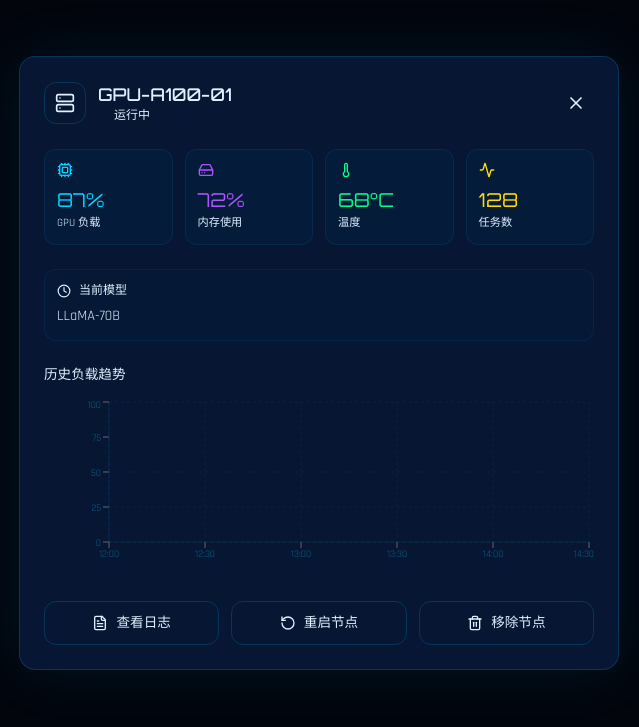
Test: NodeDetailModal › 查看日志交互 › 点击查看日志应展开日志面板
The width and height of the screenshot is (639, 727).
Click the button with test id "view-logs-btn" at (132, 623), box [44,601,219,645]
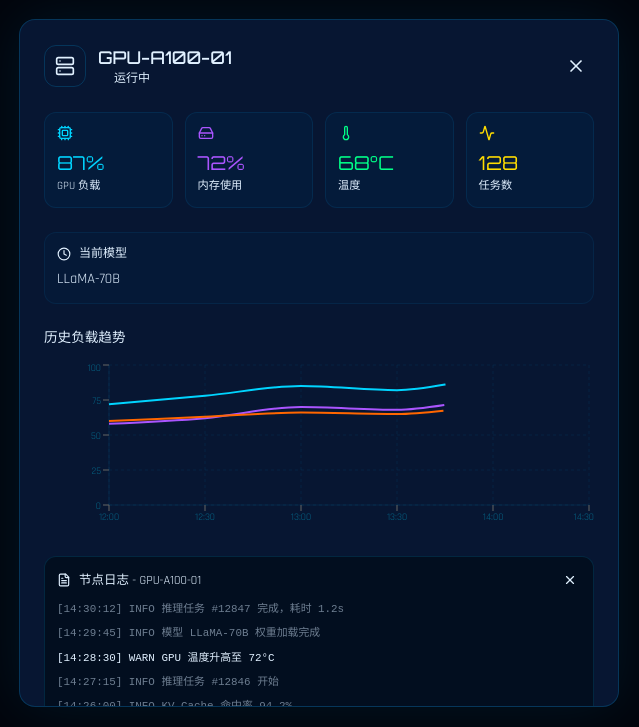
Expected: the element with test id "log-panel" is shown, [44,556,594,707]
